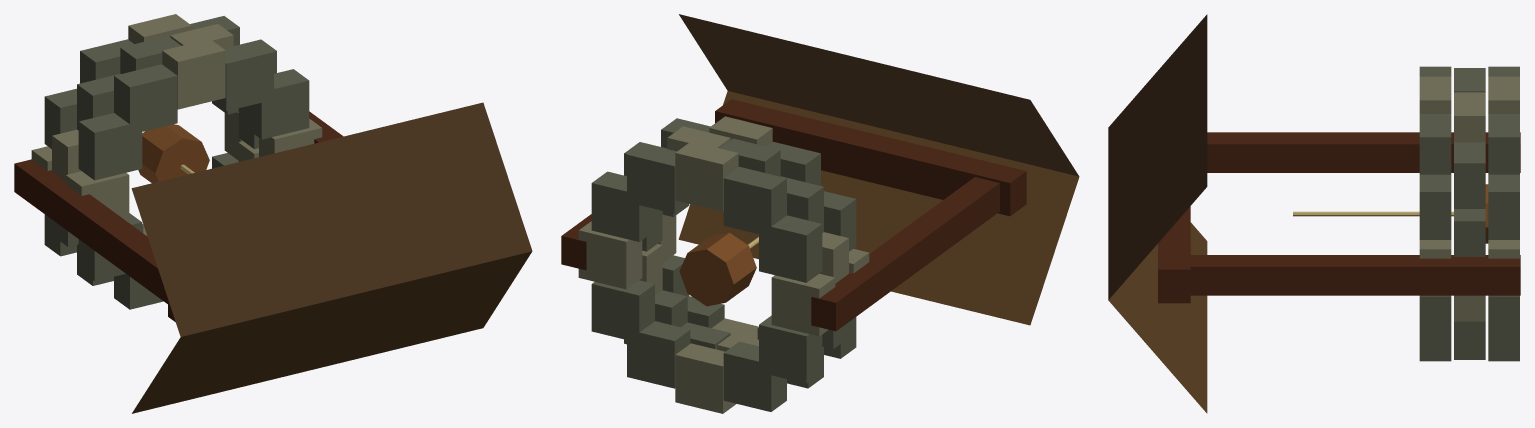
The model's file is SM_RuralWell.obj.
3 renders of one model, left to right at view 1: azimuth 30°, elevation 25°; view 2: azimuth 150°, elevation 25°; view 3: azimuth 270°, elevation 25°, orthographic.
Parts seen in each view (by area): view 1: SM_RuralWell; view 2: SM_RuralWell; view 3: SM_RuralWell.
Part boxes in pixels (<box>): SM_RuralWell: <box>14,14,532,413</box>; SM_RuralWell: <box>561,14,1079,413</box>; SM_RuralWell: <box>1108,14,1520,413</box>.
Size of the model in its own units: 310 by 210 by 312.
